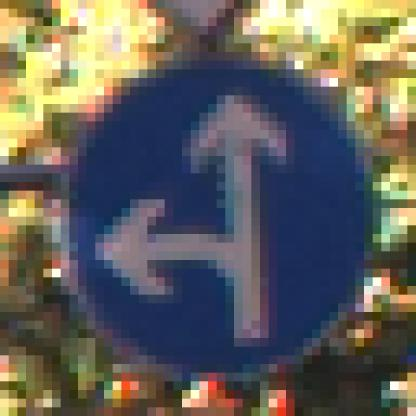Straight or Left: (53, 44, 374, 374)
